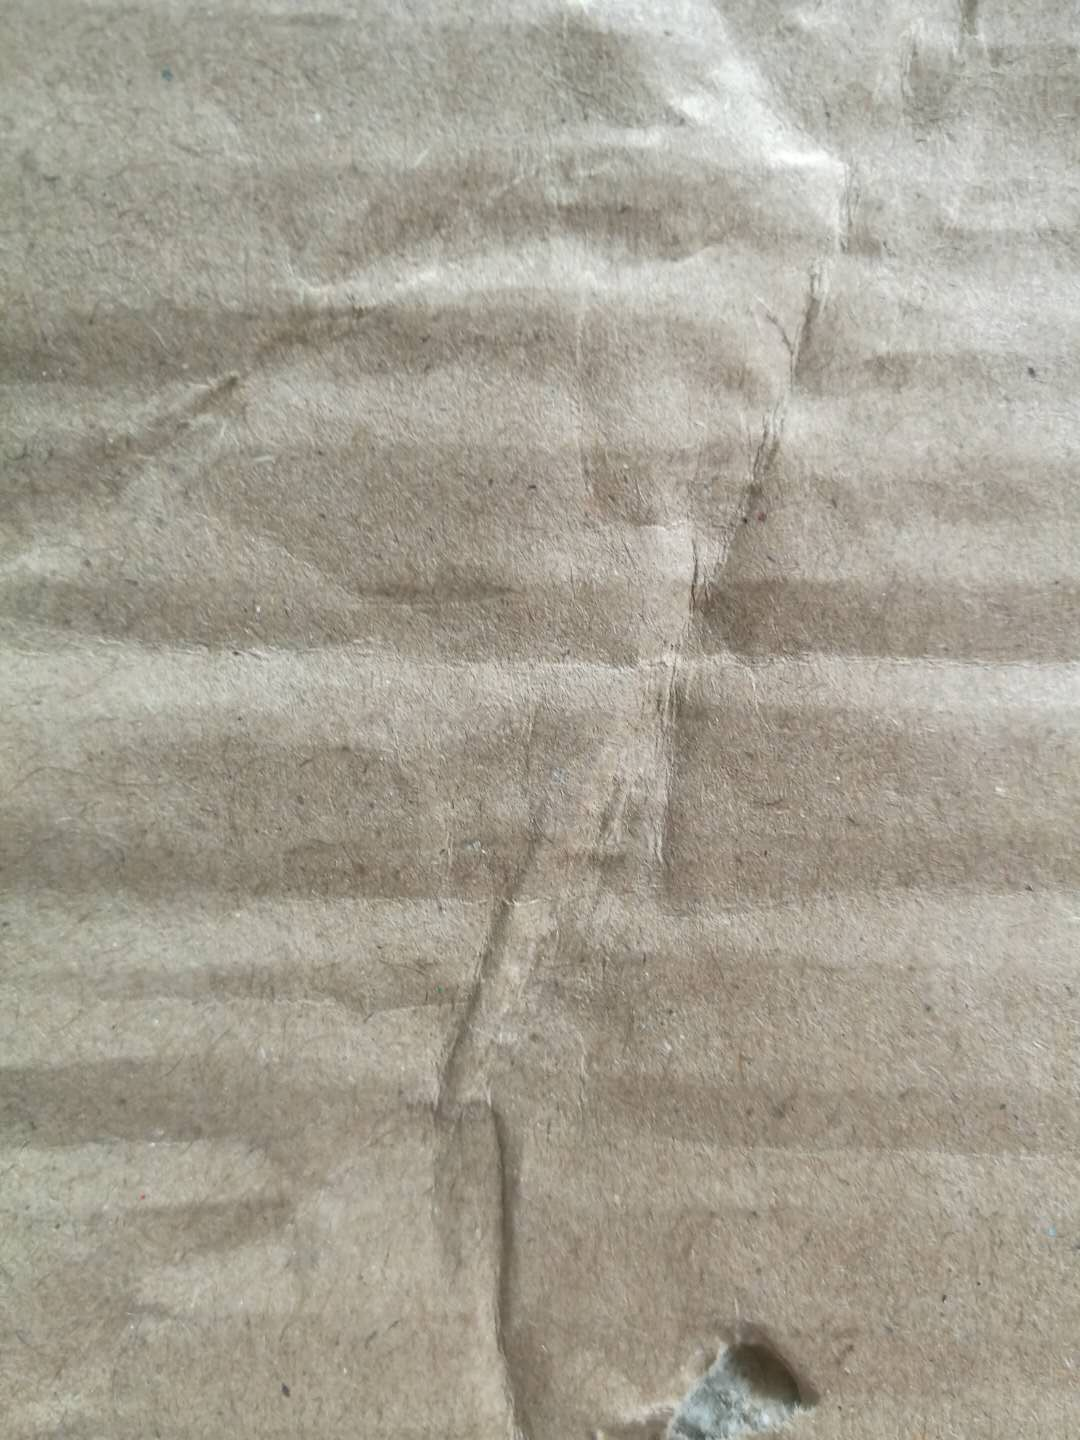defect: (6, 5, 1077, 1435)
